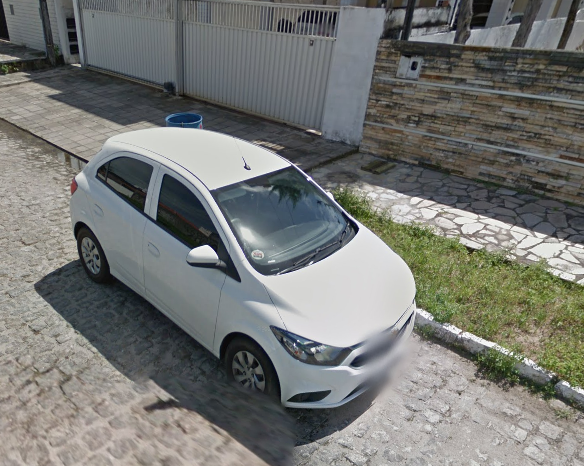car: (65, 120, 420, 414)
